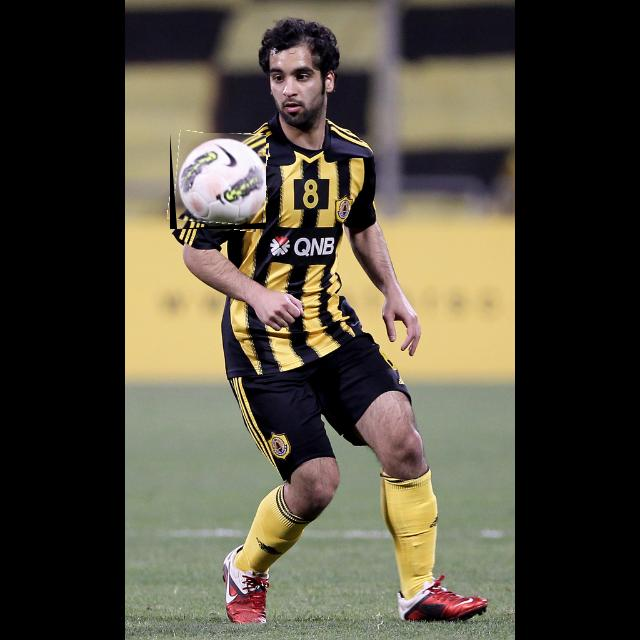Football: (170, 133, 266, 229)
